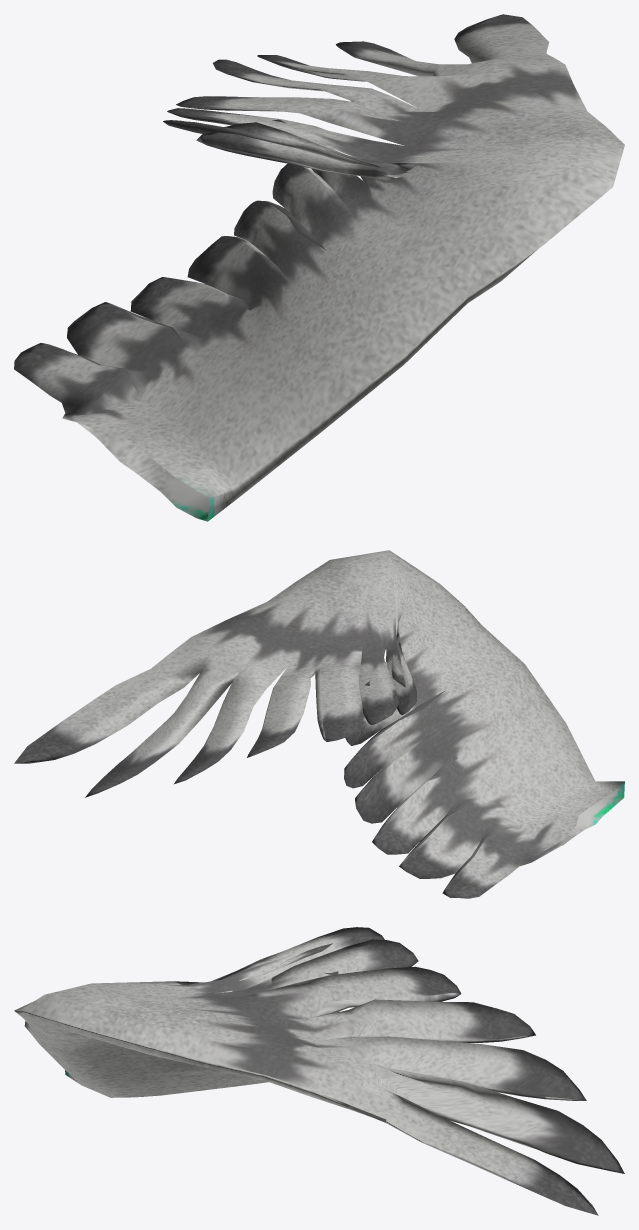
File: alaizquierda.obj
3 renders of one model, top to bottom at view 1: azimuth 30°, elevation 25°; view 2: azimuth 150°, elevation 25°; view 3: azimuth 270°, elevation 25°, orthographic. The views are drawn at different scales.
Visible parts, largest first — view 1: paloma_texturizad_Esqueleto_Dan:Paloma_completa_paloma_text.001_; view 2: paloma_texturizad_Esqueleto_Dan:Paloma_completa_paloma_text.001_; view 3: paloma_texturizad_Esqueleto_Dan:Paloma_completa_paloma_text.001_.
Boxes of the visible parts, x1,y1,x2,y2 form: paloma_texturizad_Esqueleto_Dan:Paloma_completa_paloma_text.001_: [14, 14, 624, 521]; paloma_texturizad_Esqueleto_Dan:Paloma_completa_paloma_text.001_: [14, 550, 624, 898]; paloma_texturizad_Esqueleto_Dan:Paloma_completa_paloma_text.001_: [14, 927, 624, 1215].
Size of the model in its own units: 1.5 by 0.6505 by 1.46.
1 material, 1 textured.
